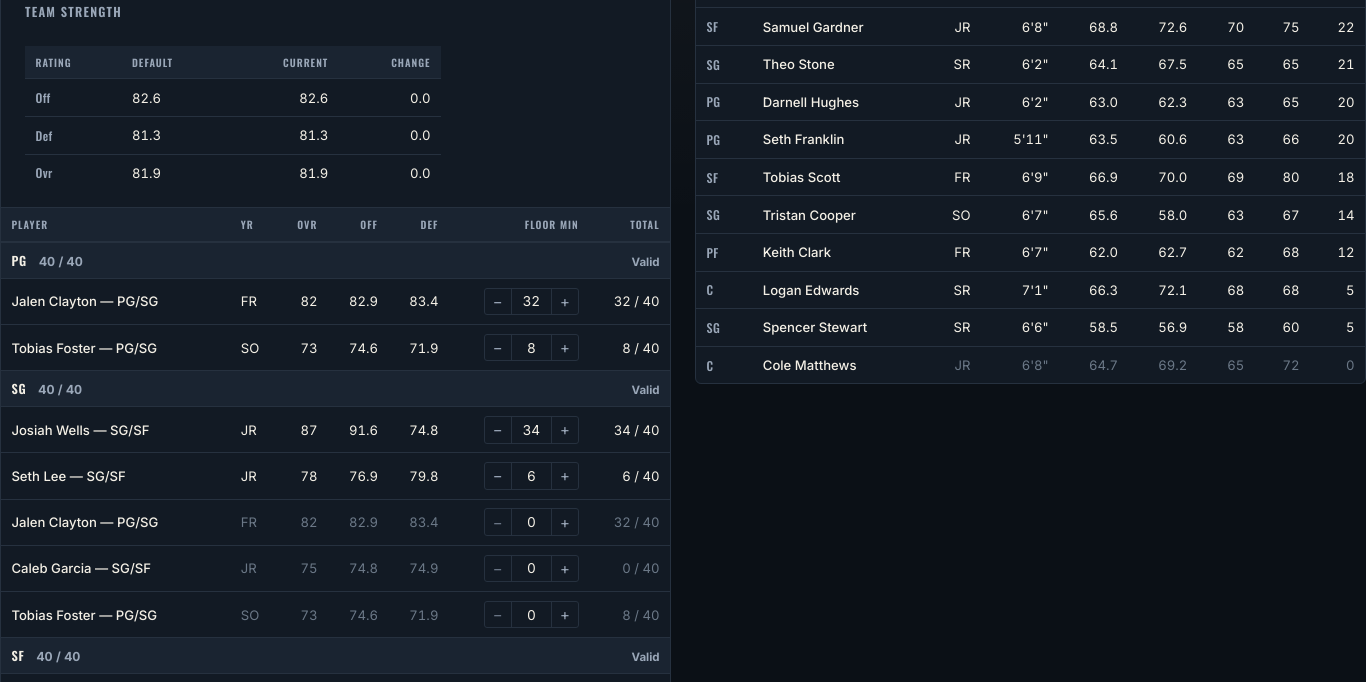
Test: Rotation editor › disables Simulate Game with a reason while the home Rotation is invalid, and re-enables it once fixed
(page scrolled)
Replace the text in the number field named "PG floor minutes for Jalen Clayton" with "37" at (531, 301), box 510,289 -> 552,314
(page scrolled)
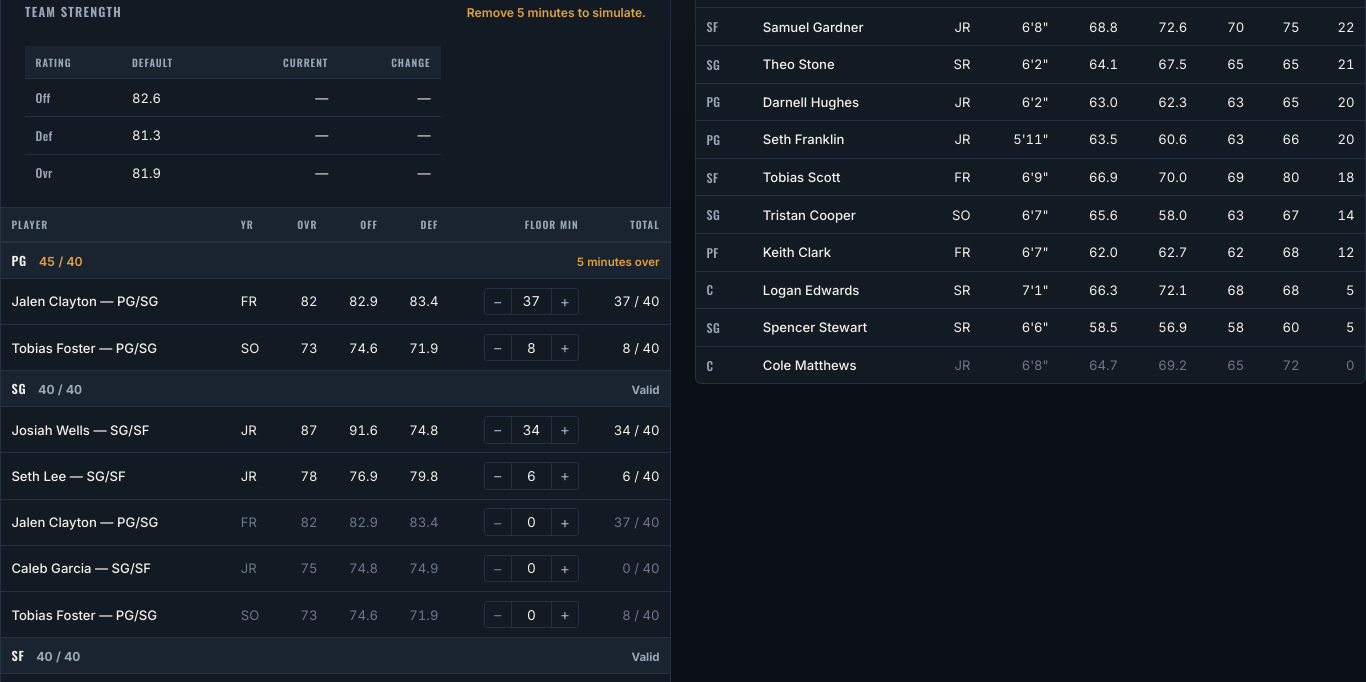
Replace the text in the number field named "PG floor minutes for Jalen Clayton" with "32" at (531, 301), box 510,289 -> 552,314
(page scrolled)
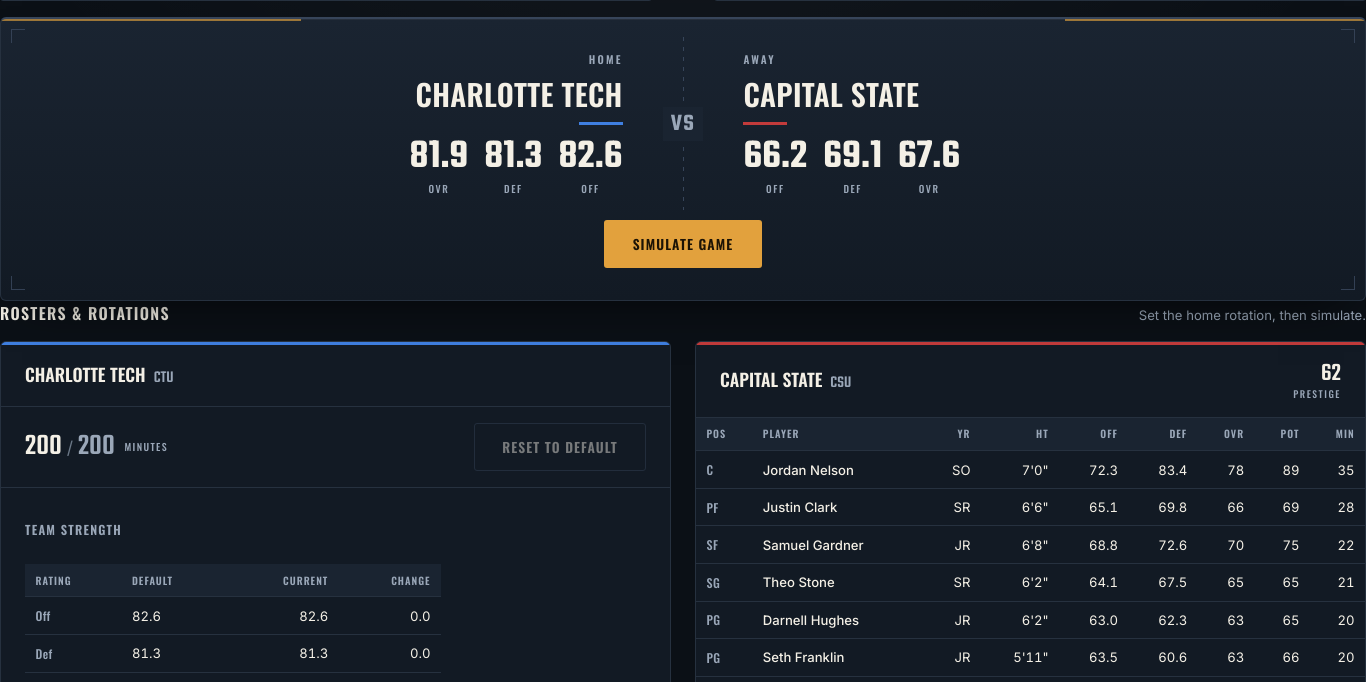
Check: the button "Simulate Game" is enabled, box 604,220 -> 762,268
